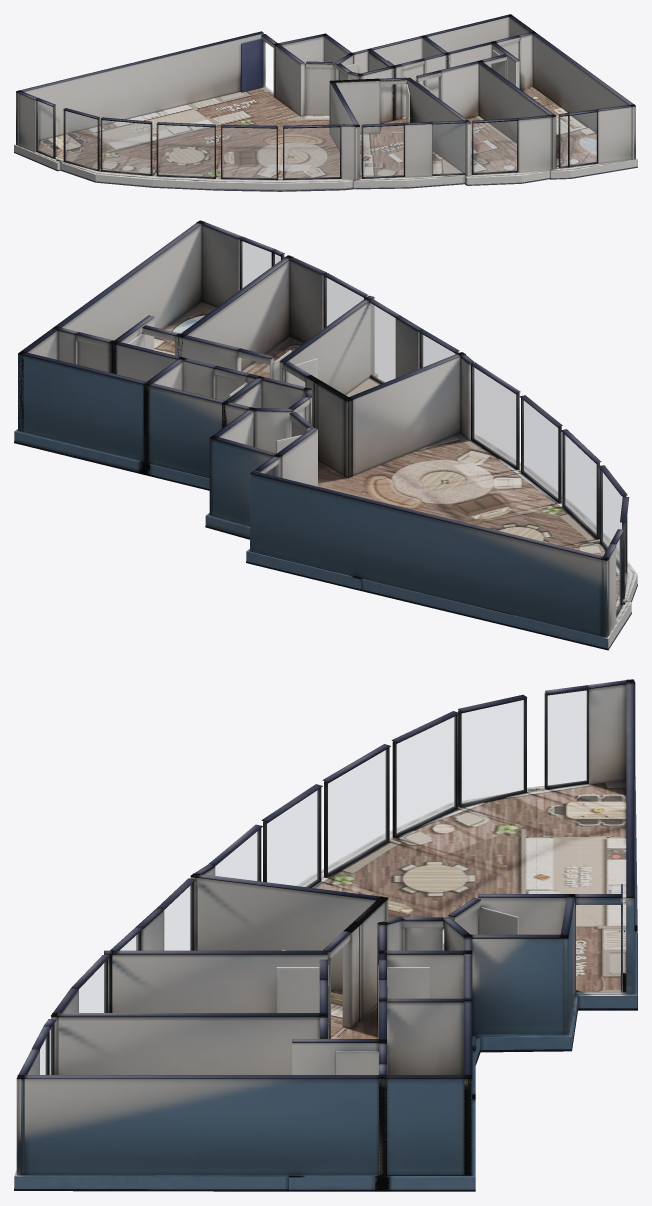
3 views of the same model, one above another, from view 1: azimuth 30°, elevation 25°; view 2: azimuth 150°, elevation 25°; view 3: azimuth 270°, elevation 25° (orthographic). The views are drawn at different scales.
Parts seen in each view (by area): view 1: plan, glass3_m, glass5_m, glass4_m, glass2_m, glass8_m, glass6_m, glass1_m, glass7_m, glass9_m, glass0_m, glass10_m; view 2: plan, glass5_m, glass4_m, glass3_m, glass7_m, glass2_m, glass8_m, glass9_m; view 3: plan, glass1_m, glass2_m, glass3_m, glass4_m, glass0_m, glass6_m, glass5_m, glass8_m.
Part boxes in pixels (x1,y1,x2,y2): plan: (14,14,637,191); glass3_m: (158,125,214,176); glass5_m: (284,127,339,178); glass4_m: (222,128,276,178); glass2_m: (102,120,150,173); glass8_m: (473,121,516,173); glass6_m: (363,126,403,176); glass1_m: (65,111,97,168); glass7_m: (433,123,464,174); glass9_m: (570,112,596,165); glass0_m: (37,101,52,156); glass10_m: (560,116,567,166); plan: (14,220,637,650); glass5_m: (473,367,515,465); glass4_m: (523,400,557,498); glass3_m: (564,434,596,534); glass7_m: (371,304,395,382); glass2_m: (602,472,622,561); glass8_m: (326,277,363,326); glass9_m: (241,241,271,288); plan: (14,679,637,1191); glass1_m: (462,700,523,803); glass2_m: (397,716,455,833); glass3_m: (328,750,386,873); glass4_m: (267,790,318,886); glass0_m: (548,690,586,785); glass6_m: (164,885,191,950); glass5_m: (215,831,258,880); glass8_m: (79,962,105,1012).
Size of the model in its own units: 20.25 by 2.62 by 13.29.
Materials: 2 (1 with a texture image).
